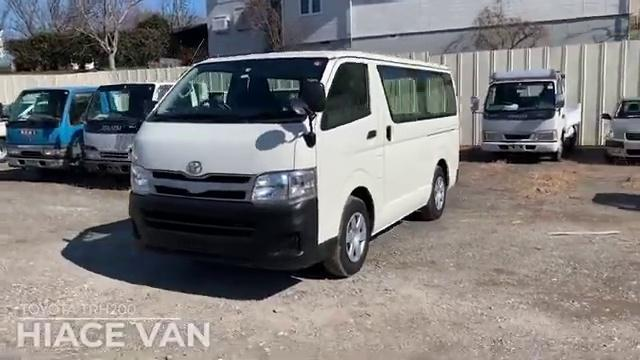van: (131, 51, 462, 281)
